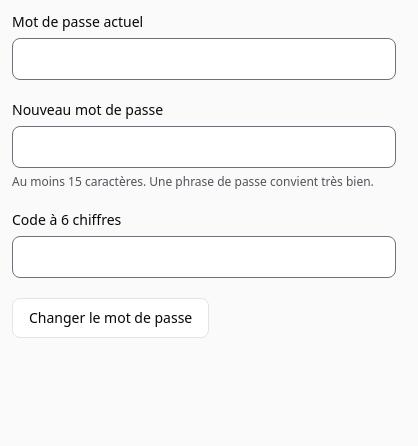
it: admin forms › PasswordForm › reports {"status":"refused"}
Type "current password" into the password field labelled "Mot de passe actuel" at point(204, 59), box [12, 38, 396, 80]
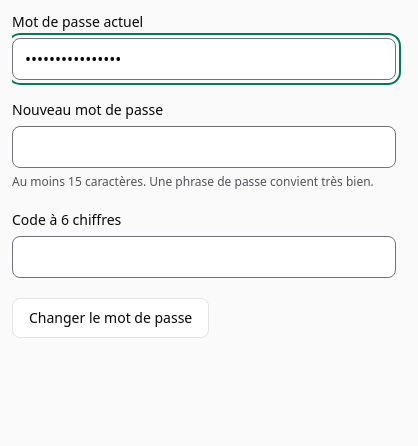
Type "a new long passphrase" into the password field labelled "Nouveau mot de passe" at point(204, 147), box [12, 126, 396, 168]
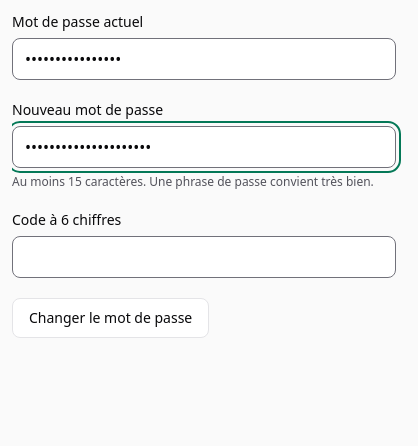
Type "123456" into the field labelled "Code à 6 chiffres" at point(204, 257), box [12, 236, 396, 278]
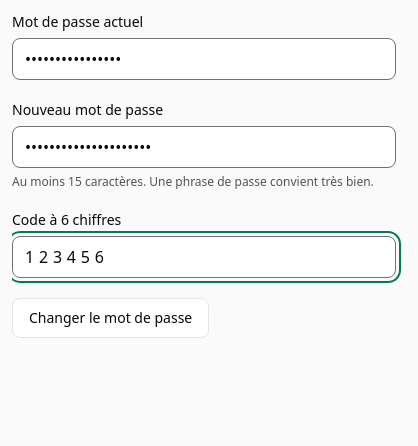
Click the button "Changer le mot de passe" at point(111, 318), box [12, 298, 209, 338]
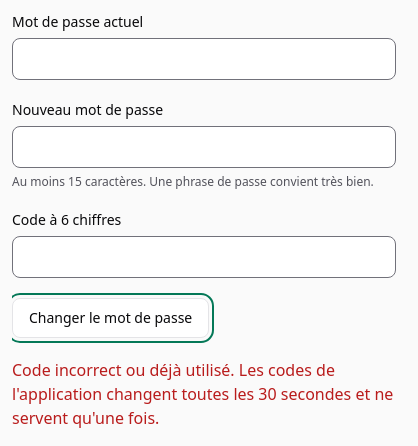
Result: the message shows "Code incorrect ou déjà utilisé." at [12, 359, 393, 429]
